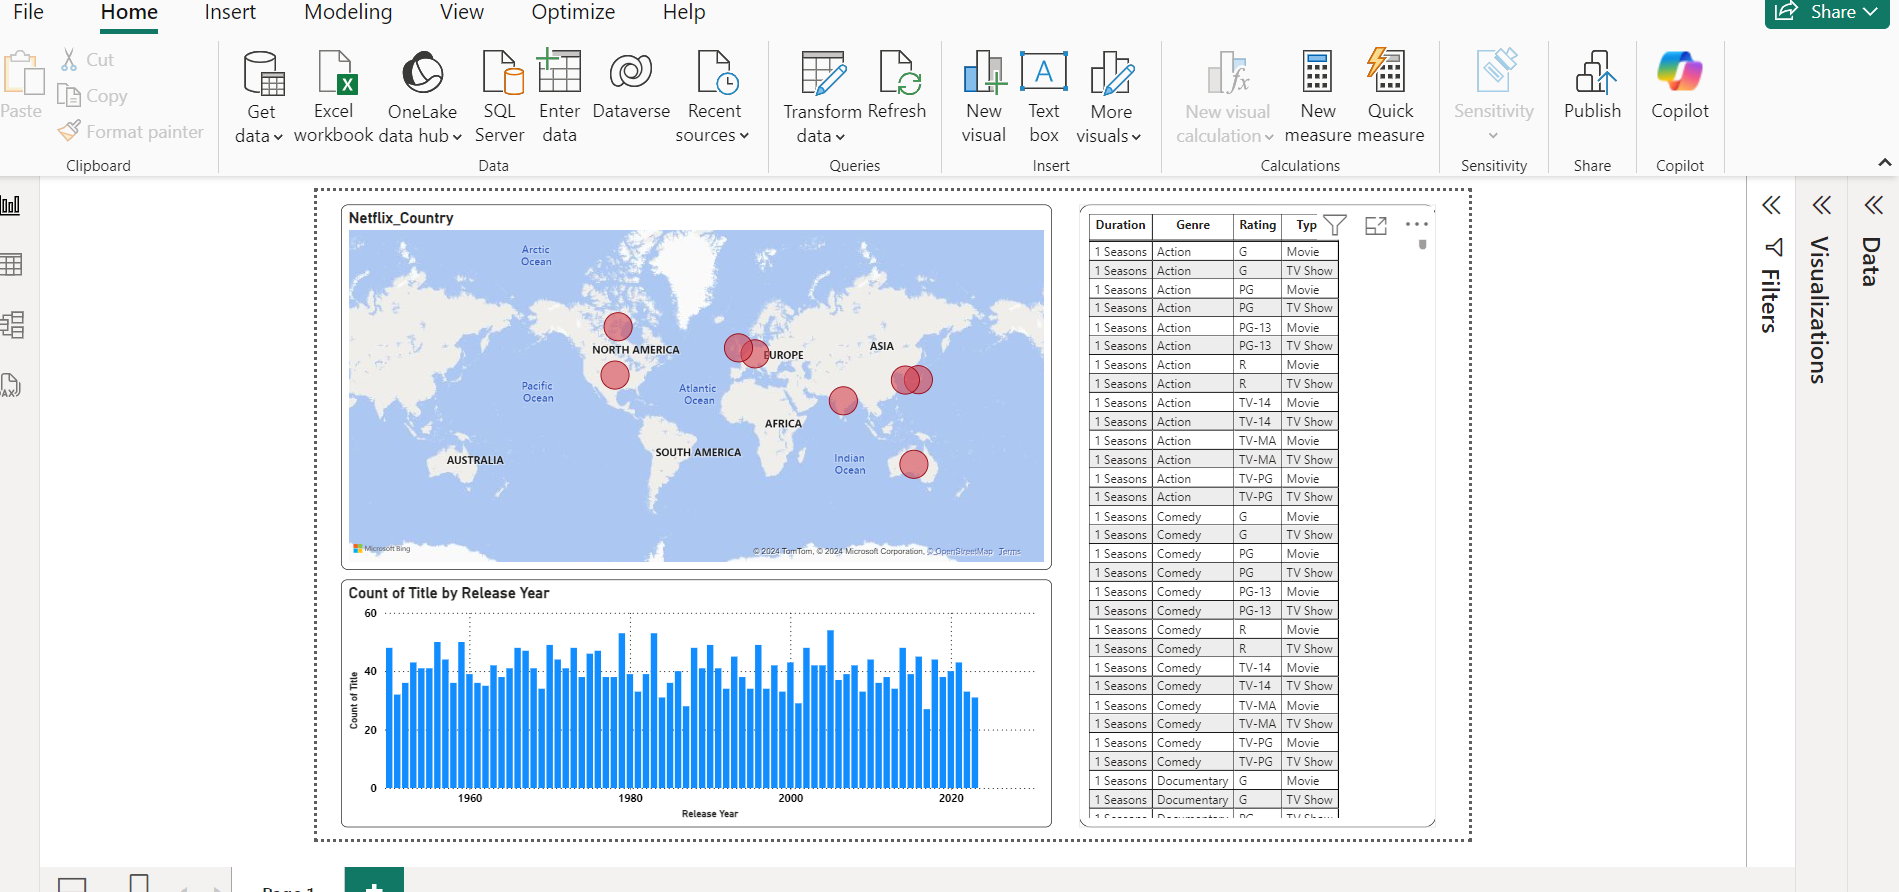

Layout of this report page (visuals, bound fields, positions):
{"tool":"powerbi","page":{"name":"Page 1","canvas":[1280,720],"ordinal":0},"visuals":[{"type":"map","title":"Netflix_Country","fields":{"Category":["transformed_data.Country"]},"box":[26.5,15.1,789.9,406.3],"z":0},{"type":"clusteredColumnChart","fields":{"Category":["transformed_data.Release Year"],"Y":["CountNonNull(transformed_data.Title)"]},"box":[26.7,431.7,790,275],"z":1},{"type":"tableEx","fields":{"Values":["transformed_data.Duration","transformed_data.Genre","transformed_data.Rating","transformed_data.Type"]},"box":[846.7,15,396.7,691.7],"z":2}]}

Visuals, with their boxes on the page's 1280x720 design canvas (x1, y1, x2, y2). These are canvas units, not pixel positions in the 1899x892 screenshot, which may show the page scaled, cropped or inside an application window:
"Netflix_Country" map: (x1=26, y1=15, x2=816, y2=421)
clusteredColumnChart - transformed_data.Release Year x CountNonNull(transformed_data.Title): (x1=27, y1=432, x2=817, y2=707)
tableEx - transformed_data.Duration x transformed_data.Genre: (x1=847, y1=15, x2=1243, y2=707)
